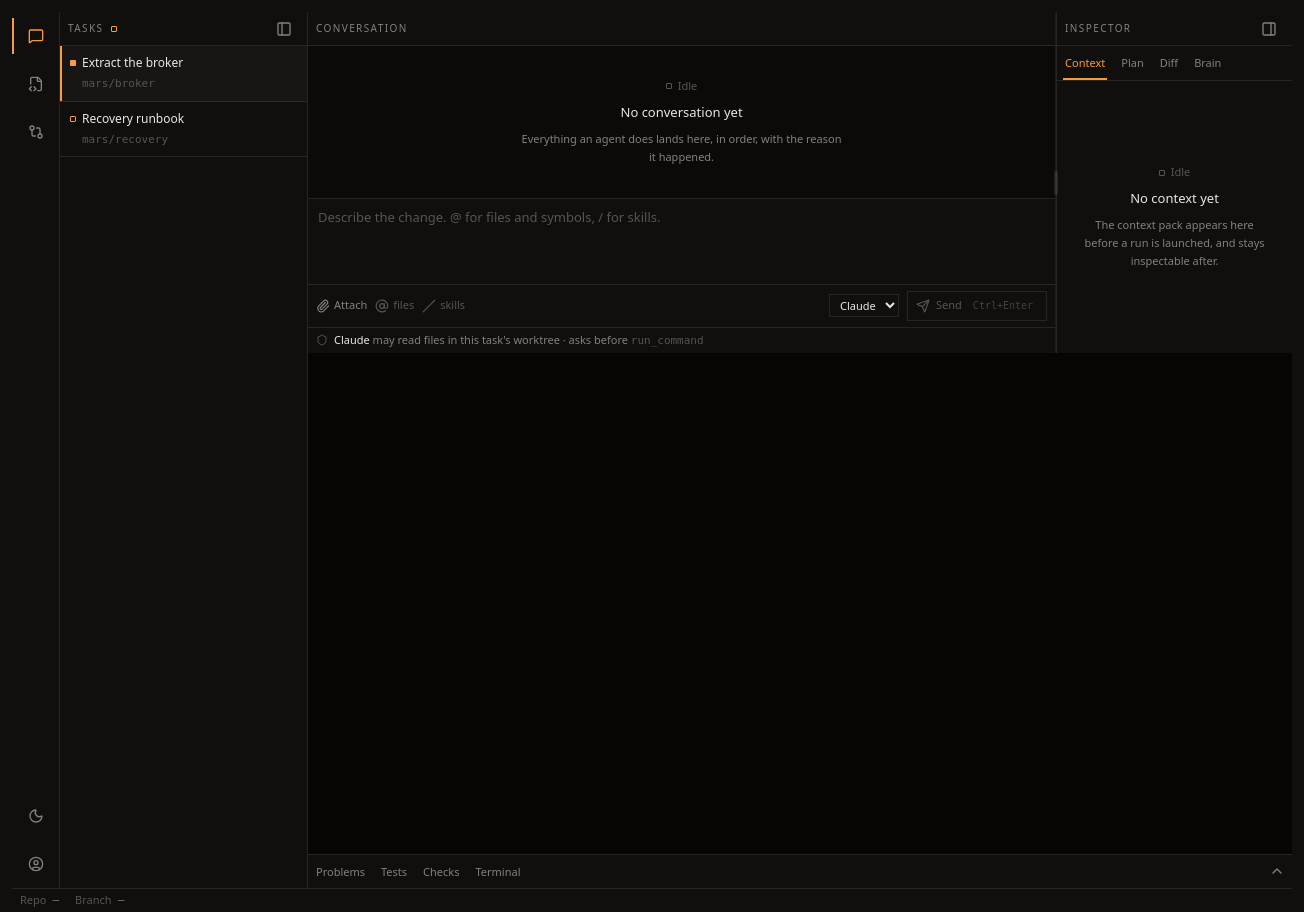
Test: utility panel › keeps its tab strip in place whether it is open or closed
The image size is (1304, 912).
Expected: the text "test output" is not shown
Click the tab "Tests" at (394, 872), box [373,855,415,889]
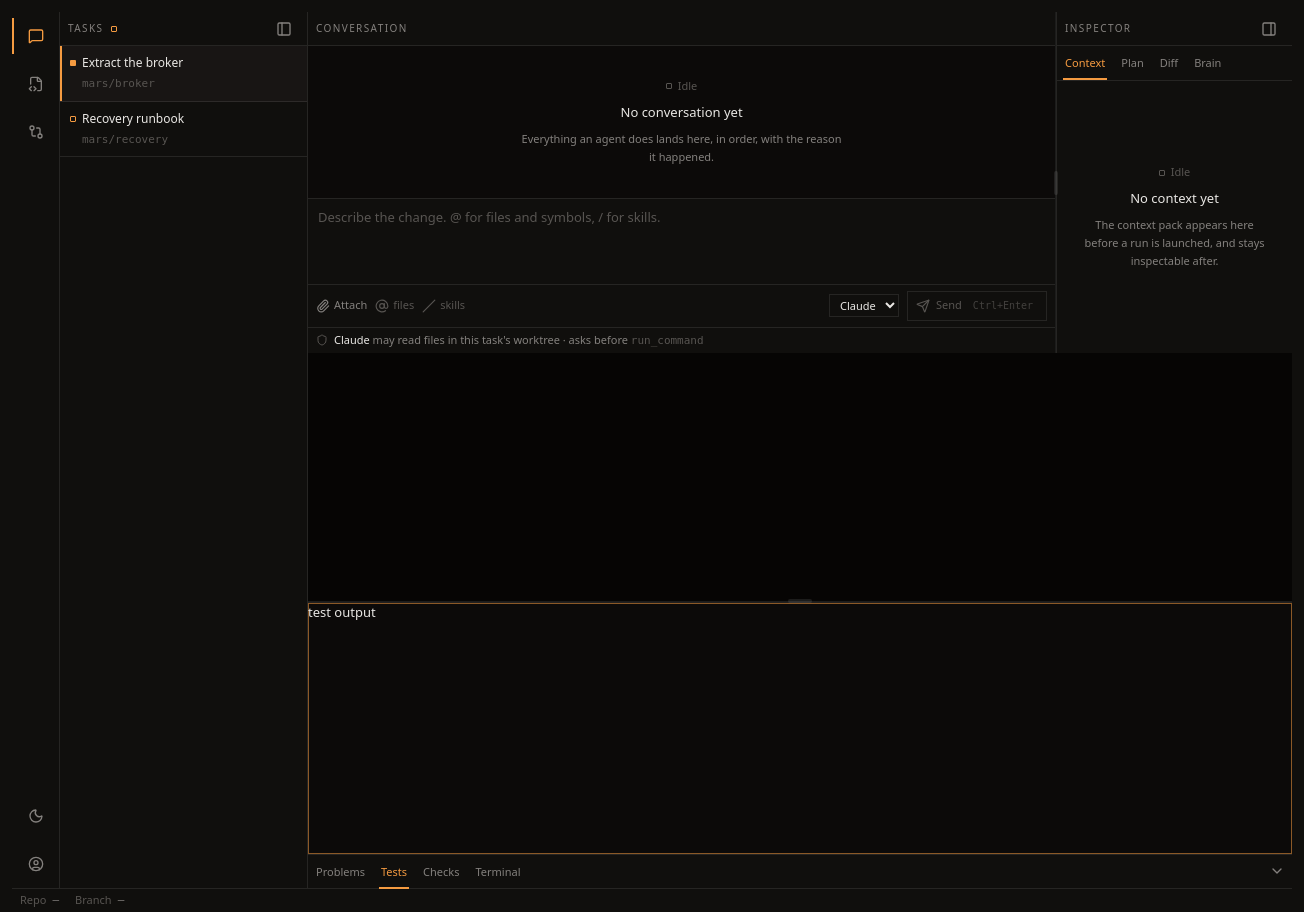
Result: the text "test output" is shown at [308,603,376,621]
Click the tab "Tests" at (394, 872), box [373,855,415,889]
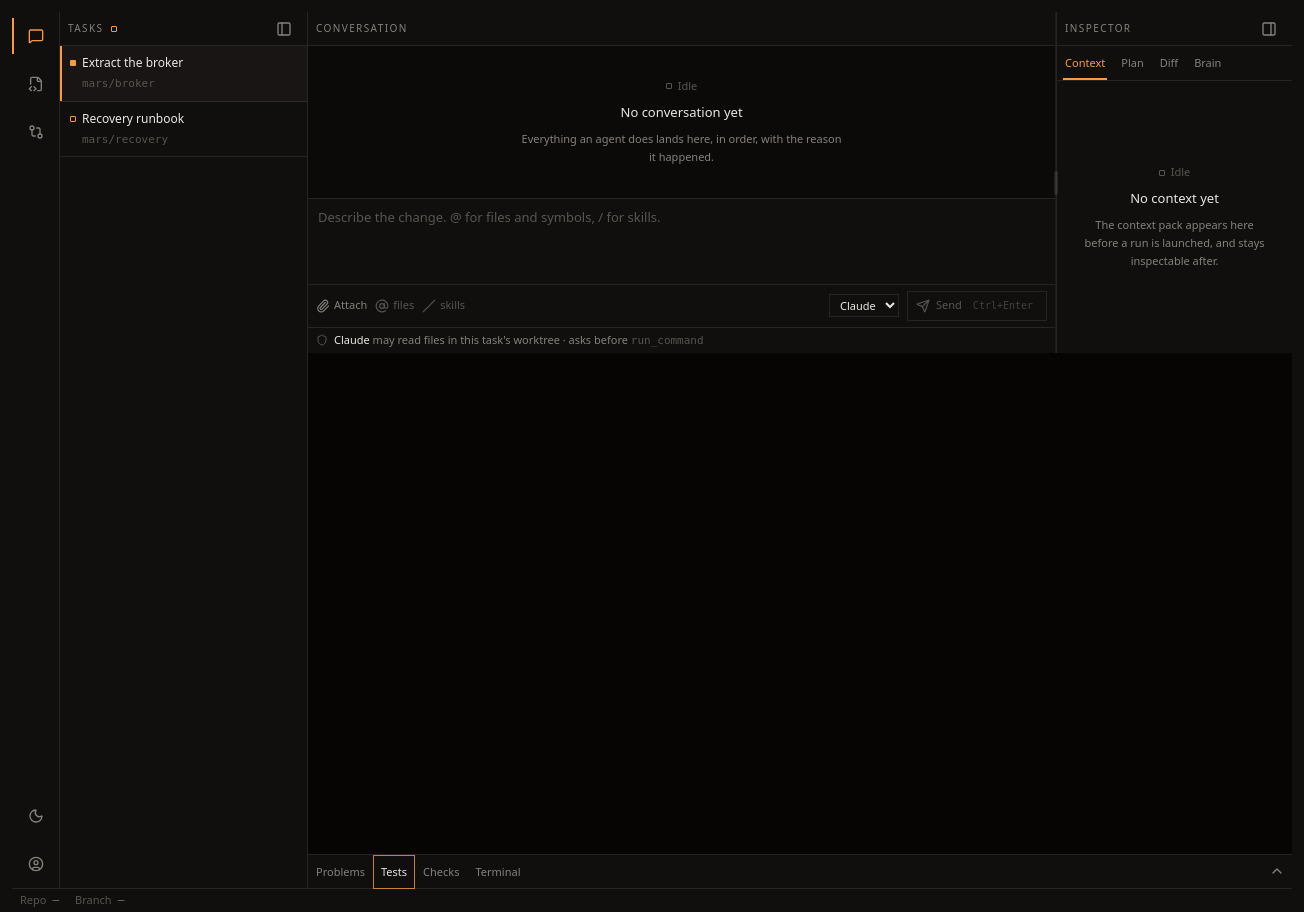
Result: the text "test output" is gone
